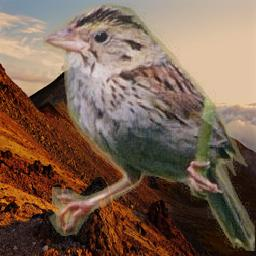Sparrow: (43, 3, 255, 251)
